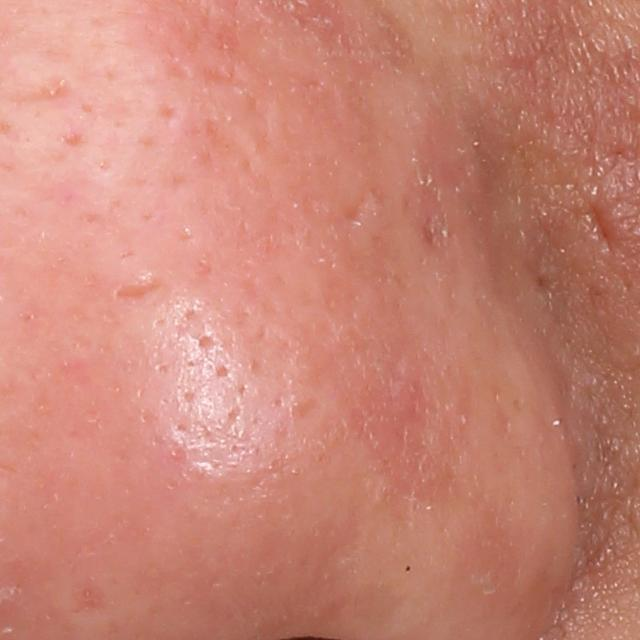atrophic_scar: (577, 192, 628, 258), (8, 74, 75, 110), (108, 268, 171, 305), (342, 190, 369, 226)
